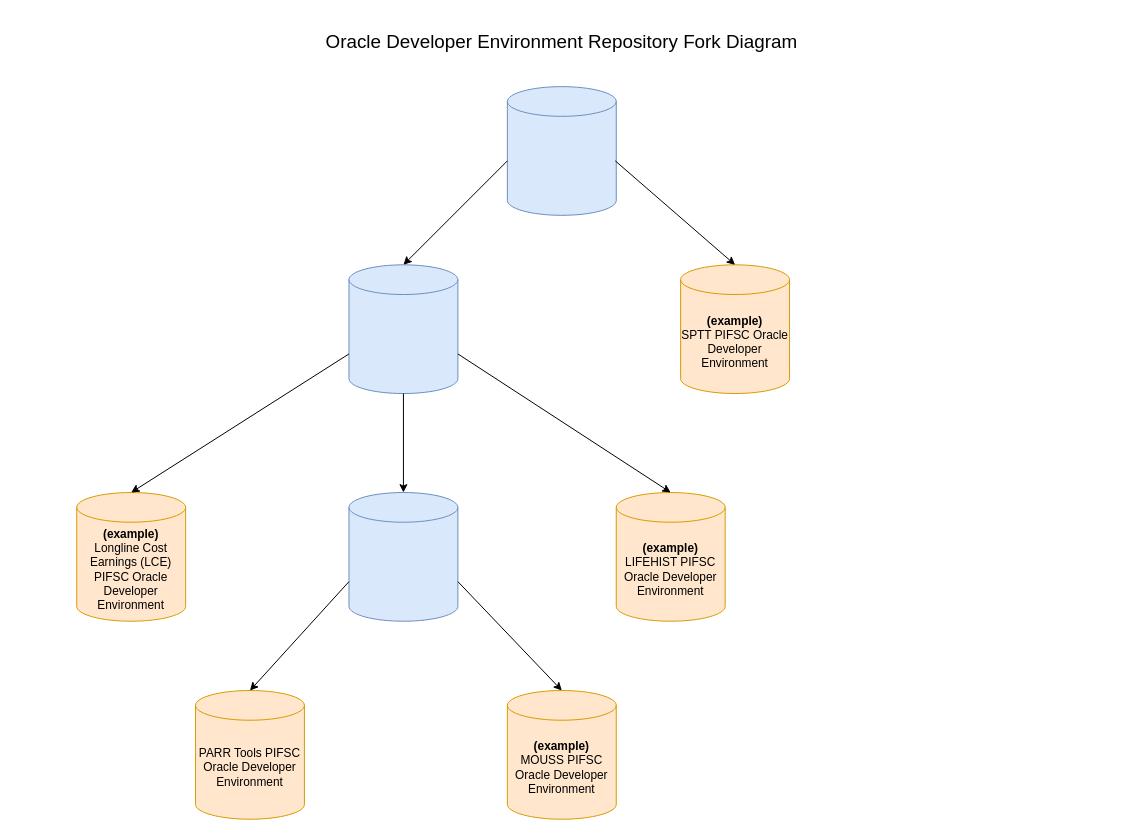
Image size: 1123x837. Some labels were removed from this diagram. The shapes that lost their labels are listed below. From the top down, each one's centre as x and y in pixels, then its label:
pixel 561 150: PIFSC Oracle Developer Environment
pixel 403 329: DSC PIFSC Oracle Developer Environment
pixel 403 556: Centralized Authorization System (CAS) PIFSC Oracle Developer Environment
